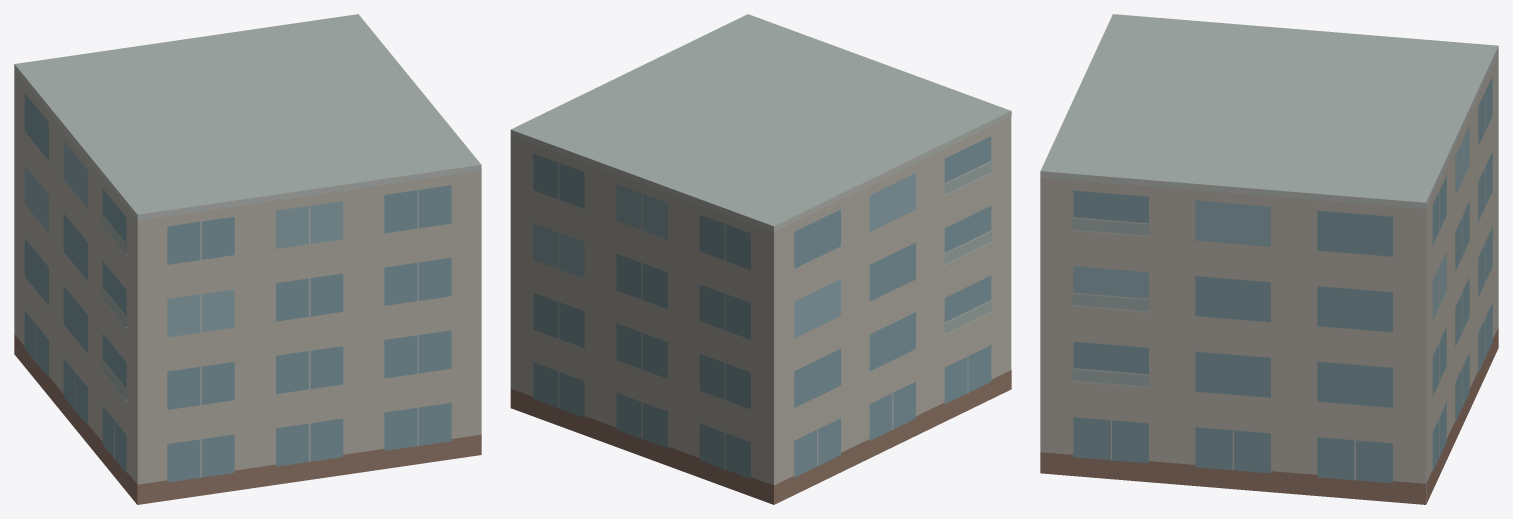
Rendered from survey-upis-32811380.glb.
3 views of the same model, side by side, from view 1: azimuth 30°, elevation 25°; view 2: azimuth 150°, elevation 25°; view 3: azimuth 270°, elevation 25° (orthographic). The views are drawn at different scales.
Parts seen in each view (by area): view 1: survey-upis-32811380.tmp; view 2: survey-upis-32811380.tmp; view 3: survey-upis-32811380.tmp.
Boxes of the visible parts, x1,y1,x2,y2 form: survey-upis-32811380.tmp: [14, 14, 481, 504]; survey-upis-32811380.tmp: [510, 14, 1011, 504]; survey-upis-32811380.tmp: [1040, 14, 1498, 504].
Bounding box in the file's own units: 15.55 × 11.6 × 15.95.
